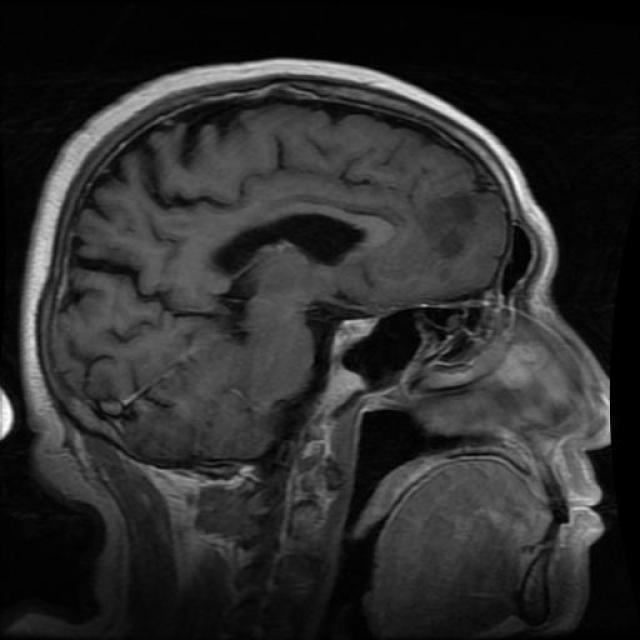glioma: (205, 202, 391, 284)
